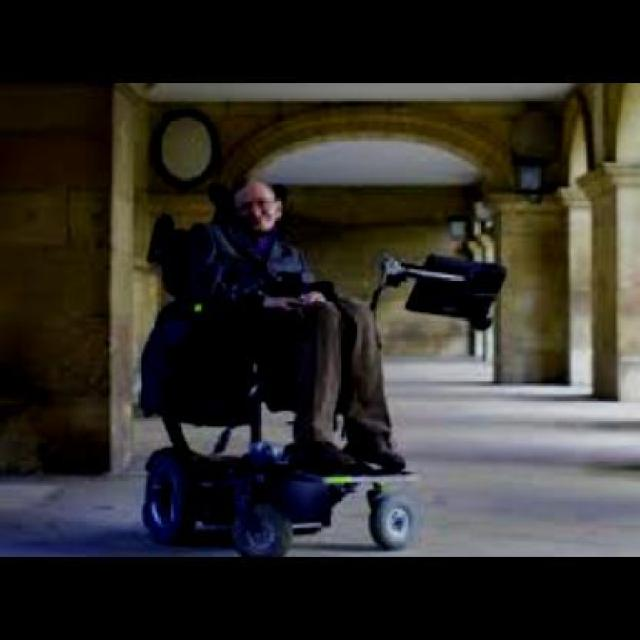wheelchairs: (133, 312, 373, 551)
